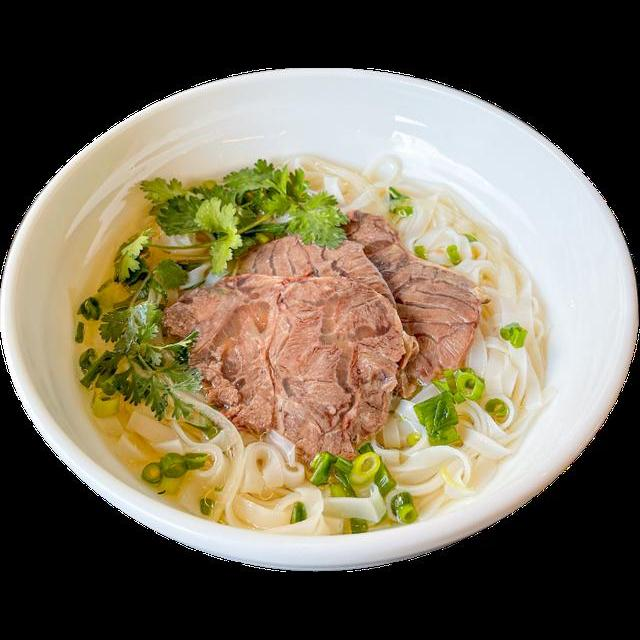banh pho: (83, 397, 391, 541), (251, 136, 506, 267), (444, 225, 558, 470), (370, 381, 524, 527)
pho bo: (13, 134, 640, 564)
thit bo: (161, 265, 424, 473), (330, 204, 496, 403), (222, 228, 407, 357)
